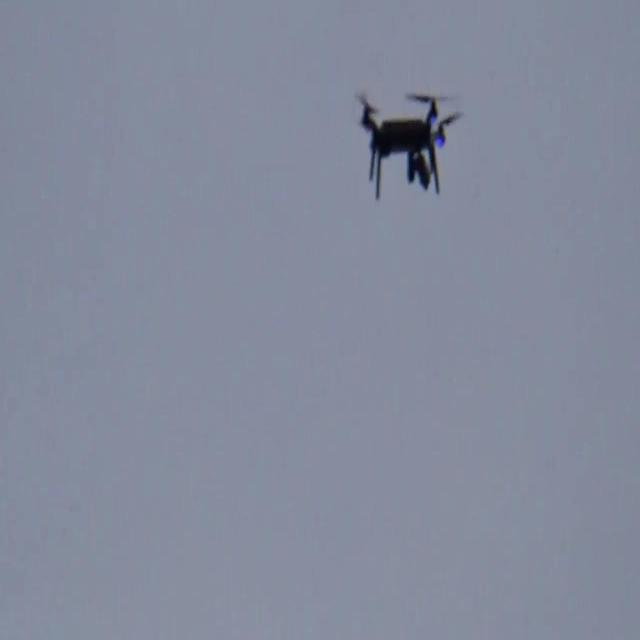drone: (359, 91, 461, 202)
